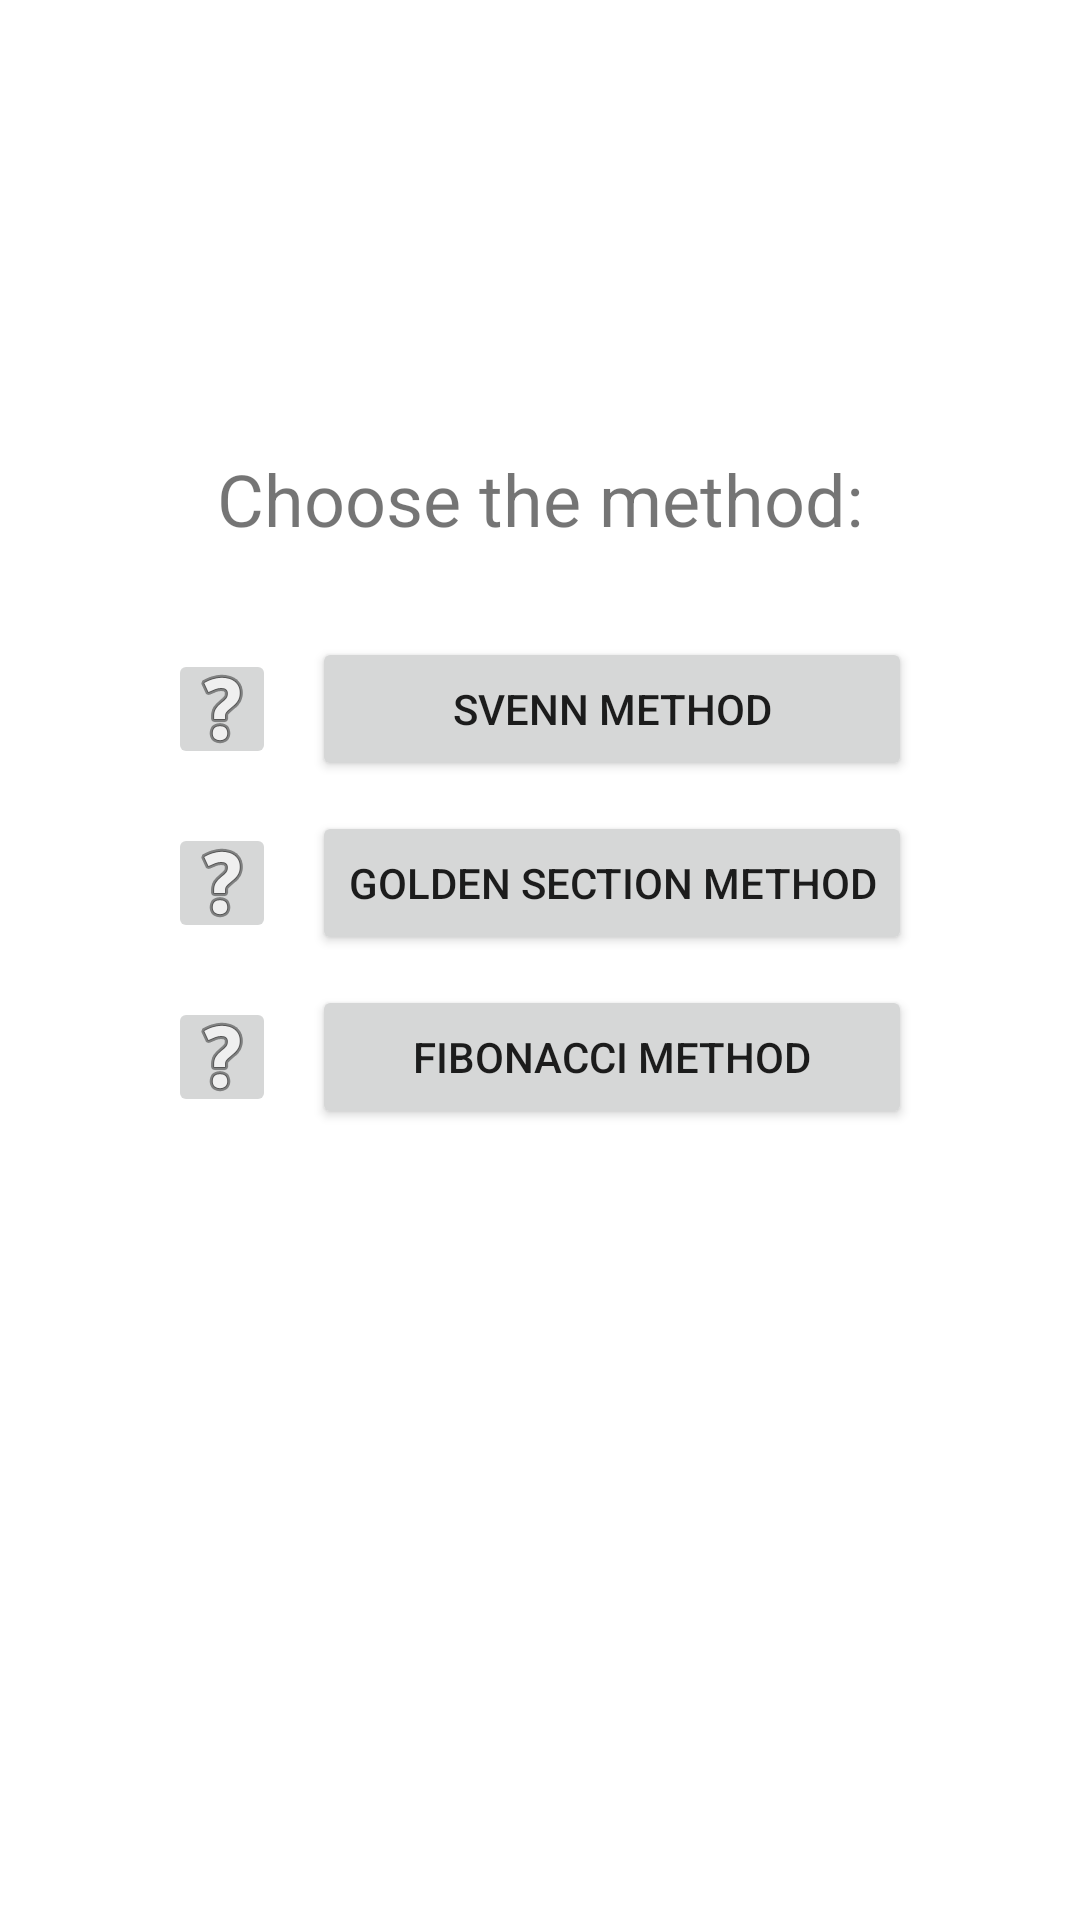

Where icons sit on this 1080px x 1920px app screen, as (x1, y1, x2, y2):
help: (180, 667, 264, 751), (180, 841, 264, 925), (180, 1015, 264, 1099)
